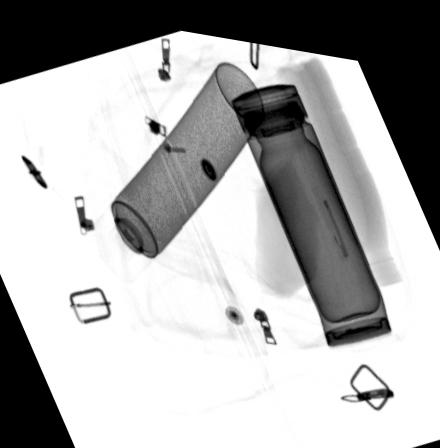Sprayer: (84, 51, 264, 280)
